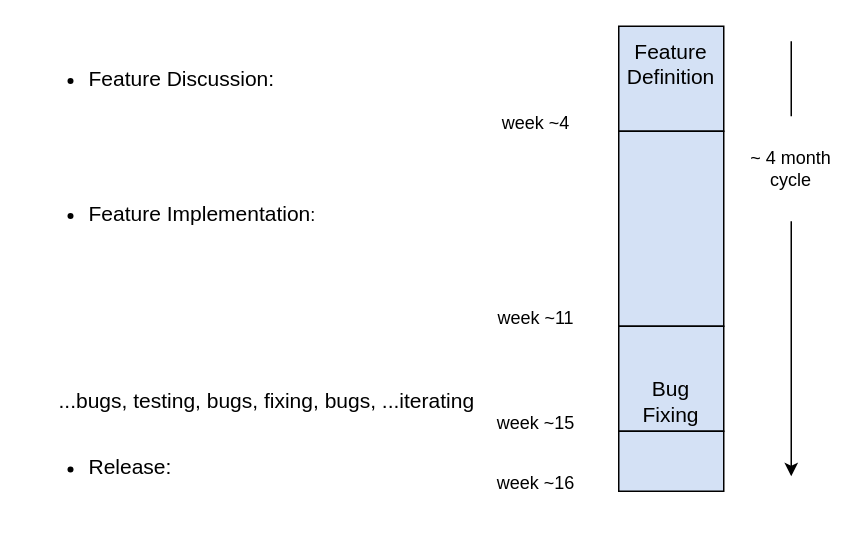
The diagram is 861 pixels wide and 533 high, and some of its shapes have lost their labels. Each missing label, with the centre of its shape:
"Feature Work" belongs at point 670,228.
"Release" belongs at point 670,460.
